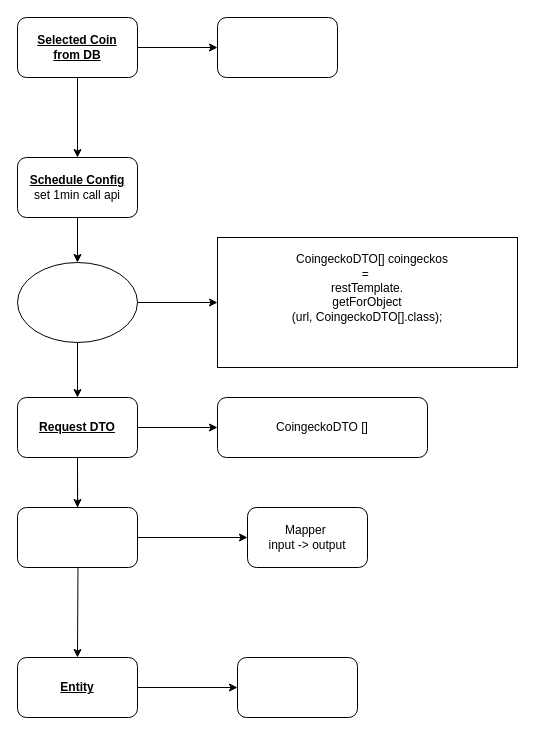
Some shapes in this 535 by 735 pixel diagram are drawn without their labels. Each missing label, with the centre of its shape:
"Insert into DB" belongs at (x=297, y=687).
"JPA" belongs at (x=277, y=47).
"Mapper" belongs at (x=77, y=537).
"restTemplate get url" belongs at (x=77, y=302).
